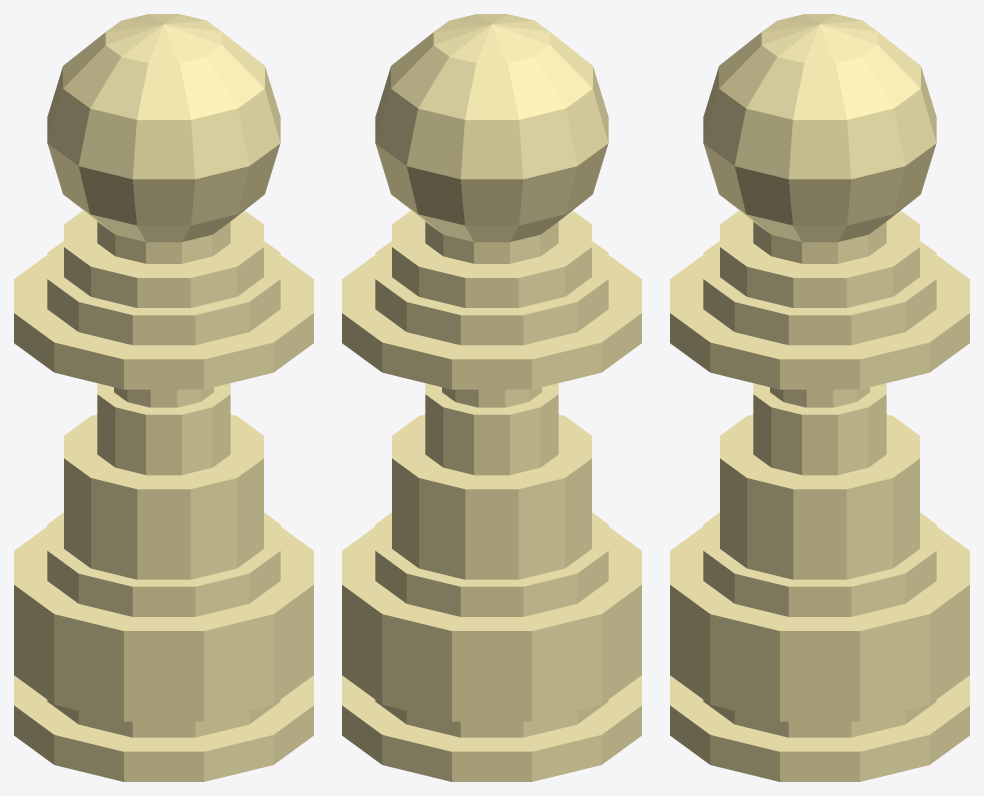
Rendered from Pion.fbx.
The picture shows the model from 3 angles, left to right: view 1: azimuth 30°, elevation 25°; view 2: azimuth 150°, elevation 25°; view 3: azimuth 270°, elevation 25°; orthographic projection.
Parts seen in each view (by area): view 1: sphere, tube_3, tube_10, tube_6, tube_5, tube_8, tube_7, tube_2, tube_1, tube_4, tube_9, tube; view 2: sphere, tube_3, tube_10, tube_6, tube_5, tube_8, tube_7, tube_2, tube_1, tube_4, tube_9, tube; view 3: sphere, tube_3, tube_10, tube_6, tube_5, tube_8, tube_7, tube_2, tube_1, tube_4, tube_9, tube.
Part boxes in pixels (x1=…): sphere: x1=47, y1=14, x2=280, y2=242; tube_3: x1=14, y1=527, x2=313, y2=721; tube_10: x1=64, y1=414, x2=263, y2=579; tube_6: x1=14, y1=255, x2=313, y2=389; tube_5: x1=14, y1=675, x2=313, y2=781; tube_8: x1=64, y1=210, x2=263, y2=307; tube_7: x1=47, y1=241, x2=280, y2=345; tube_2: x1=47, y1=512, x2=280, y2=616; tube_1: x1=97, y1=383, x2=230, y2=475; tube_4: x1=47, y1=700, x2=280, y2=737; tube_9: x1=97, y1=222, x2=230, y2=263; tube: x1=114, y1=387, x2=213, y2=407; sphere: x1=375, y1=14, x2=608, y2=242; tube_3: x1=342, y1=527, x2=641, y2=721; tube_10: x1=392, y1=414, x2=591, y2=579; tube_6: x1=342, y1=255, x2=641, y2=389; tube_5: x1=342, y1=675, x2=641, y2=781; tube_8: x1=392, y1=210, x2=591, y2=307; tube_7: x1=375, y1=241, x2=608, y2=345; tube_2: x1=375, y1=512, x2=608, y2=616; tube_1: x1=425, y1=383, x2=558, y2=475; tube_4: x1=375, y1=700, x2=608, y2=737; tube_9: x1=425, y1=222, x2=558, y2=263; tube: x1=442, y1=387, x2=541, y2=407; sphere: x1=703, y1=14, x2=936, y2=242; tube_3: x1=670, y1=527, x2=969, y2=721; tube_10: x1=720, y1=414, x2=919, y2=579; tube_6: x1=670, y1=255, x2=969, y2=389; tube_5: x1=670, y1=675, x2=969, y2=781; tube_8: x1=720, y1=210, x2=919, y2=307; tube_7: x1=703, y1=241, x2=936, y2=345; tube_2: x1=703, y1=512, x2=936, y2=616; tube_1: x1=753, y1=383, x2=886, y2=475; tube_4: x1=703, y1=700, x2=936, y2=737; tube_9: x1=753, y1=222, x2=886, y2=263; tube: x1=770, y1=387, x2=869, y2=407.
Size of the model in its own units: 56.25 by 144 by 56.25.
Materials: 1 (1 with a texture image).
